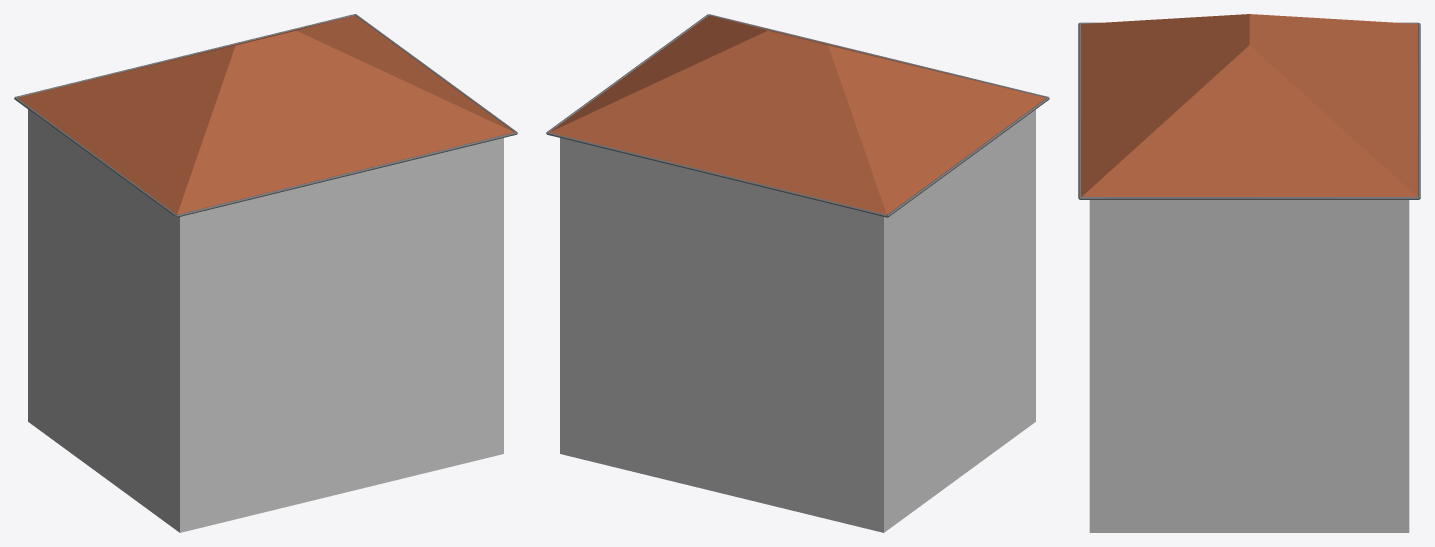
File: bina_08_u.glb
3 views of the same model, side by side, from view 1: azimuth 30°, elevation 25°; view 2: azimuth 150°, elevation 25°; view 3: azimuth 270°, elevation 25° (orthographic). The views are drawn at different scales.
Parts seen in each view (by area): view 1: P08_Apt_Konut_C_L2.001; view 2: P08_Apt_Konut_C_L2.001; view 3: P08_Apt_Konut_C_L2.001.
Boxes of the visible parts, box(x1,y1,x2,y2) form: P08_Apt_Konut_C_L2.001: box(14, 14, 517, 532); P08_Apt_Konut_C_L2.001: box(546, 14, 1049, 532); P08_Apt_Konut_C_L2.001: box(1078, 14, 1420, 532).
Bounding box in the file's own units: 16.92 × 18.87 × 13.92.
